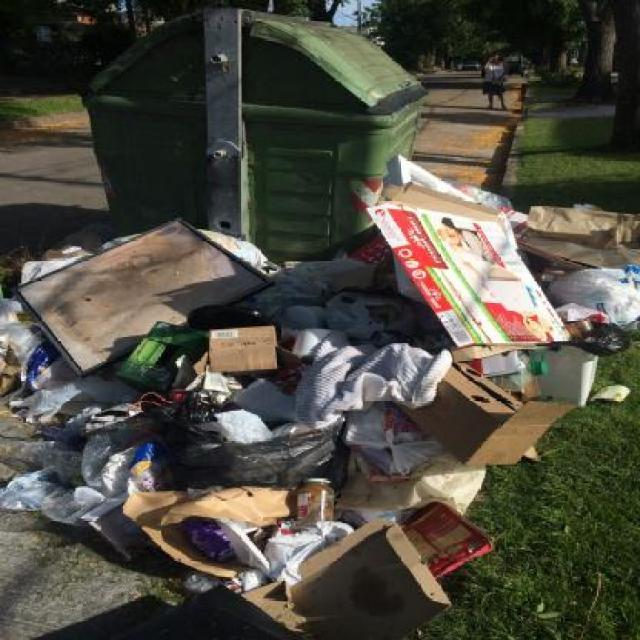garbage: (35, 225, 492, 579), (417, 186, 638, 383)
